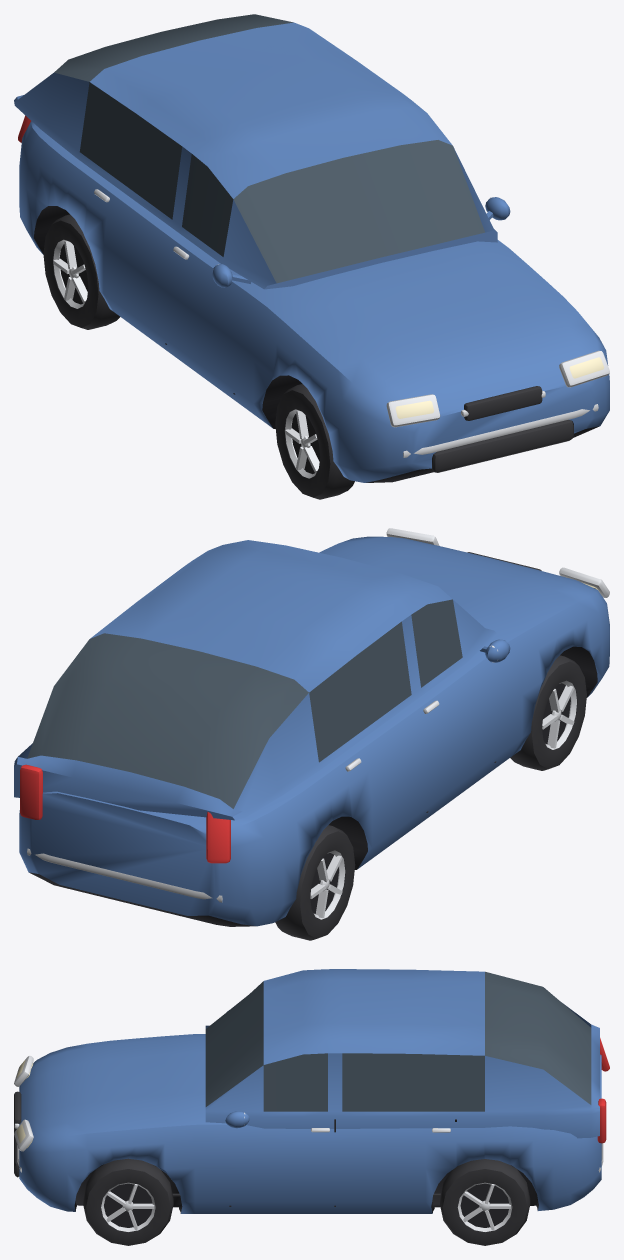
File: Car_Hatchback.fbx
The picture shows the model from 3 angles, top to bottom: view 1: azimuth 30°, elevation 25°; view 2: azimuth 150°, elevation 25°; view 3: azimuth 270°, elevation 25°; orthographic projection. The views are drawn at different scales.
Parts seen in each view (by area): view 1: Car_Hatchback; view 2: Car_Hatchback; view 3: Car_Hatchback.
Boxes of the visible parts, bbox=[...] form: Car_Hatchback: bbox=[14, 14, 609, 499]; Car_Hatchback: bbox=[14, 528, 609, 940]; Car_Hatchback: bbox=[14, 969, 609, 1245].
Bounding box in the file's own units: 1.78 × 1.51 × 4.09.
